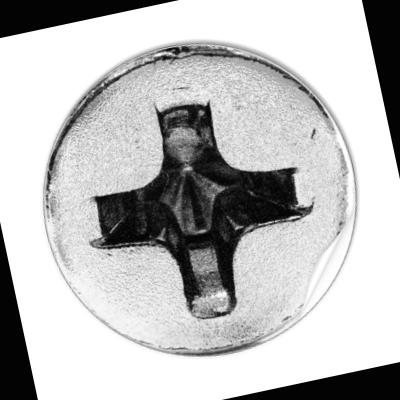screw: (16, 15, 392, 386)
